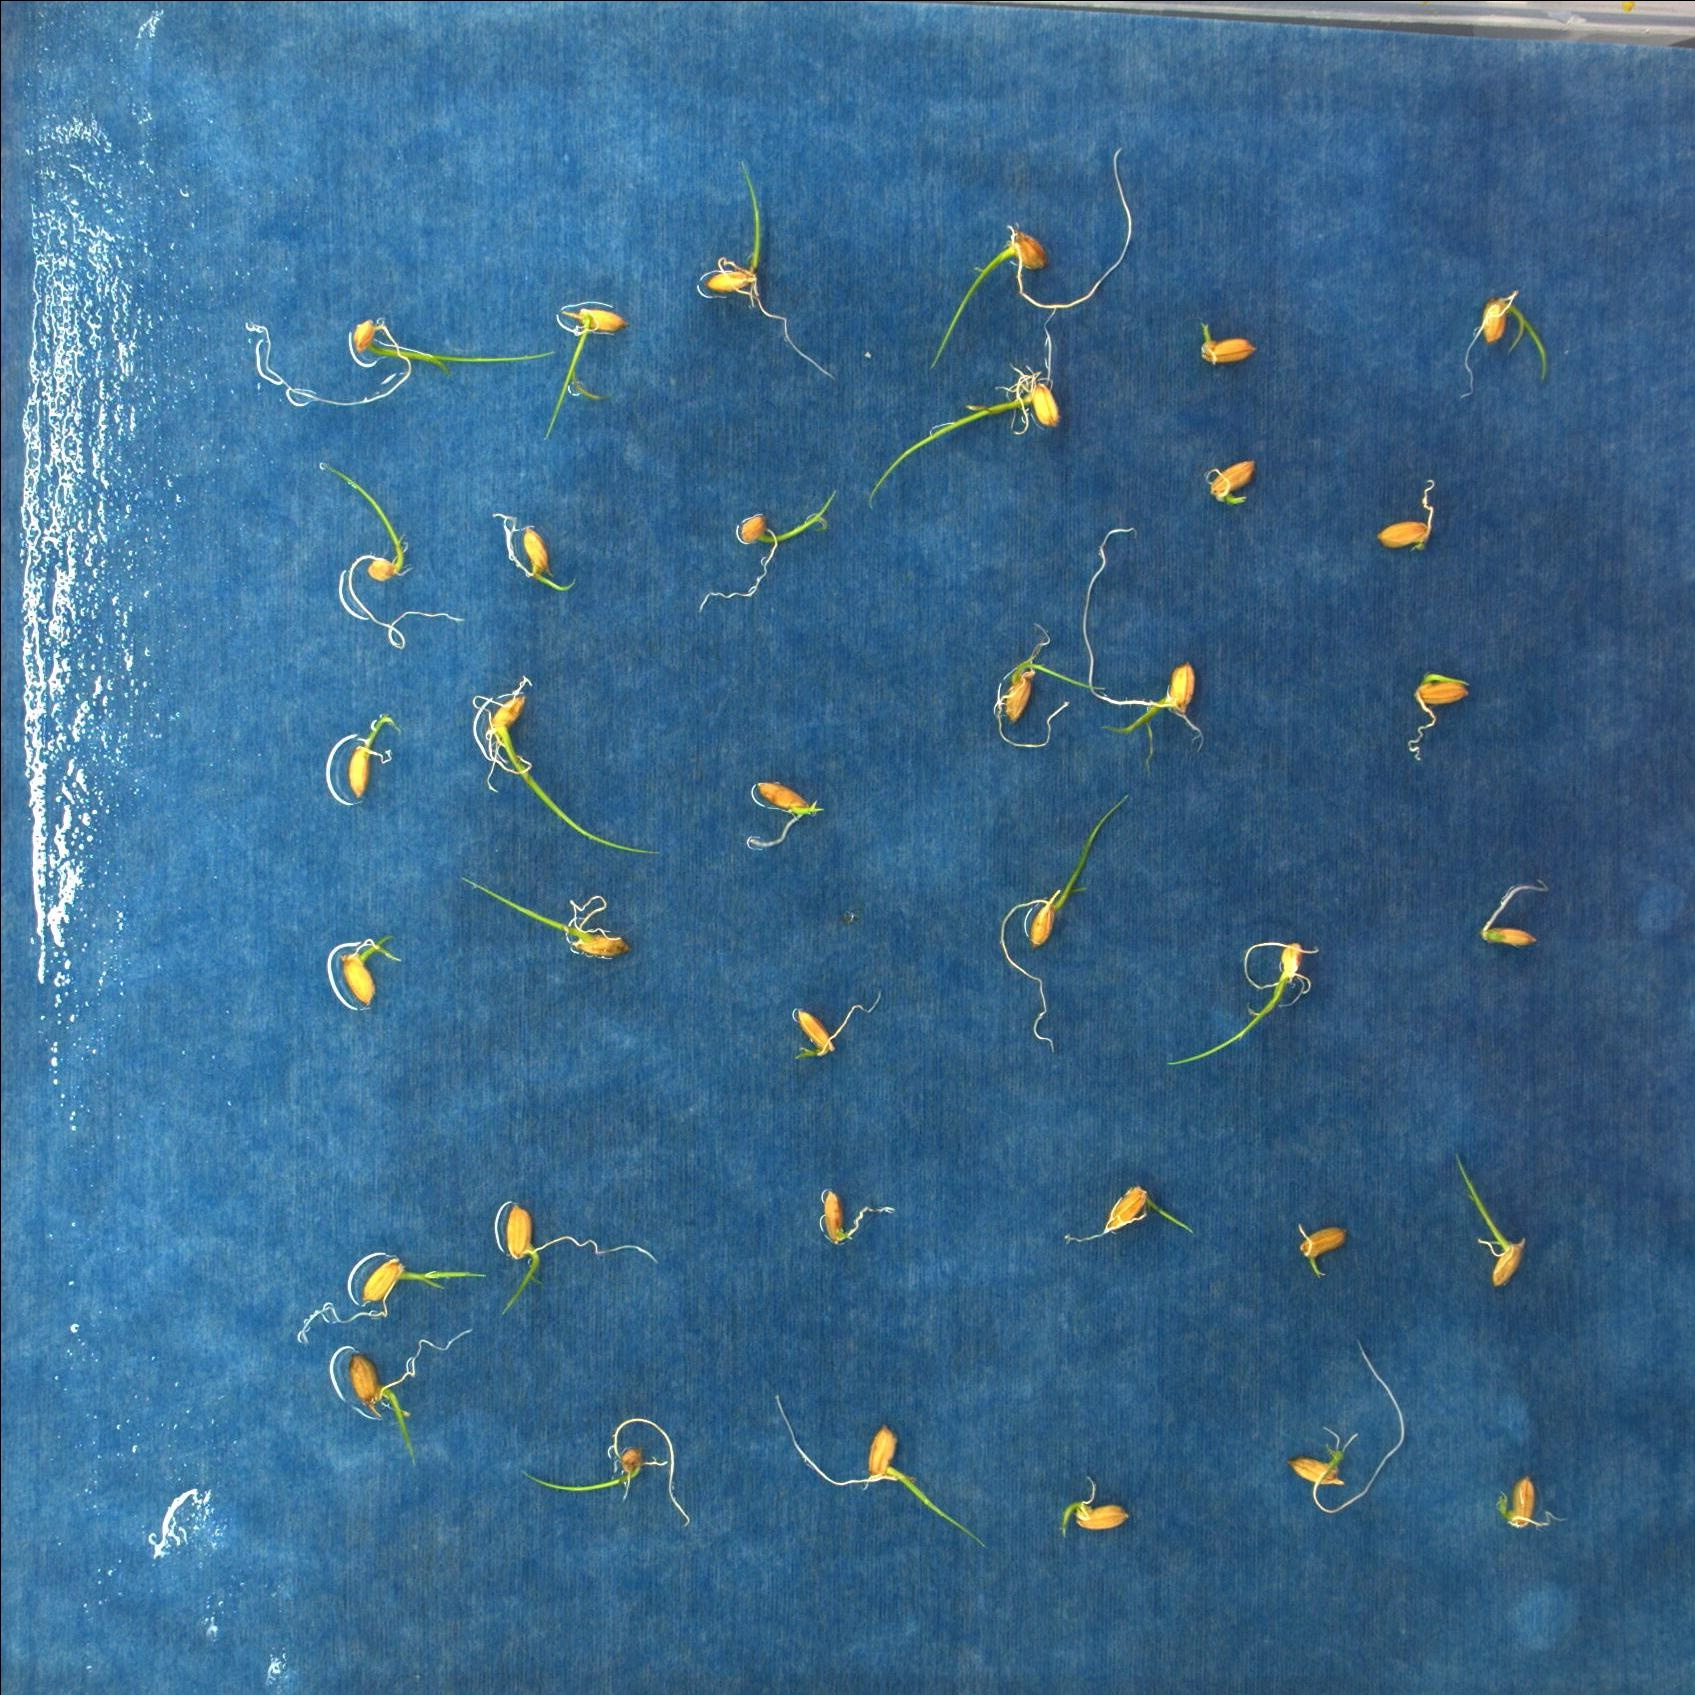not sprout: (1358, 470, 1464, 563), (784, 986, 893, 1069), (1475, 875, 1558, 959), (804, 1178, 882, 1254), (1260, 1201, 1346, 1270), (1197, 320, 1260, 369)
sprout: (838, 296, 1080, 518), (475, 627, 660, 860), (938, 147, 1144, 354), (242, 279, 536, 414), (275, 466, 494, 641), (698, 152, 841, 390), (762, 1400, 1000, 1540), (1087, 515, 1212, 773), (997, 792, 1124, 1045), (1149, 917, 1343, 1060), (498, 1200, 674, 1338), (455, 854, 658, 970), (700, 470, 844, 627), (560, 1367, 688, 1544), (1288, 1336, 1412, 1516), (296, 1239, 497, 1341), (979, 626, 1104, 751), (331, 1330, 438, 1470), (1444, 1152, 1540, 1295), (542, 290, 635, 436), (1453, 281, 1560, 385), (1069, 1183, 1198, 1260), (483, 498, 582, 596), (329, 927, 408, 1020), (324, 709, 407, 798), (1055, 1470, 1139, 1552), (742, 770, 824, 851), (1194, 438, 1274, 517), (1411, 652, 1473, 736), (1485, 1464, 1557, 1527)
